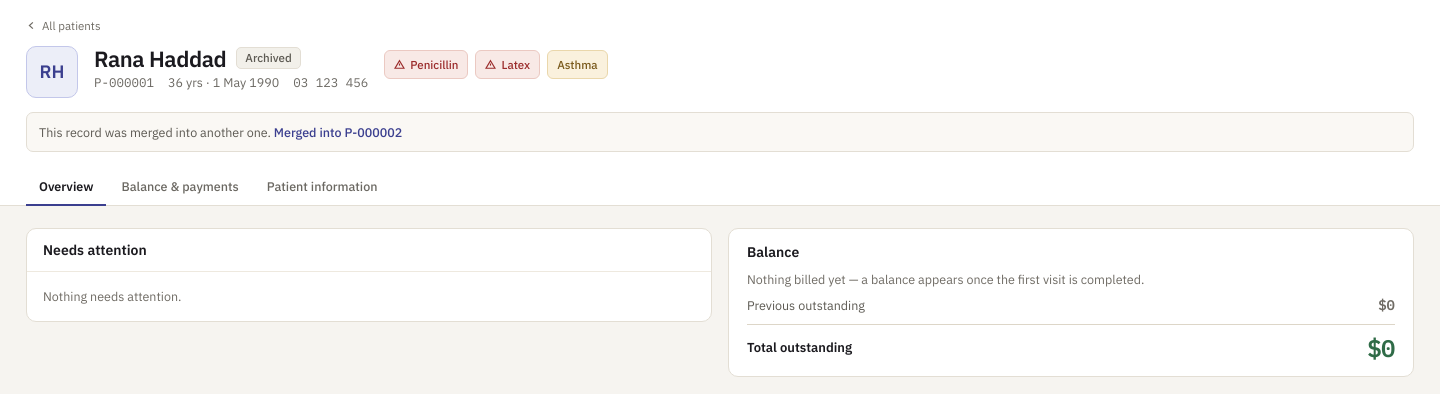
RecordHeader › links a merged record to the kept one, without Restore
The width and height of the screenshot is (1440, 394).
Expected: the button "Edit patient" is not shown
Click the link "Merged into P-000002": click(338, 132) left=274, top=124, right=402, bottom=140
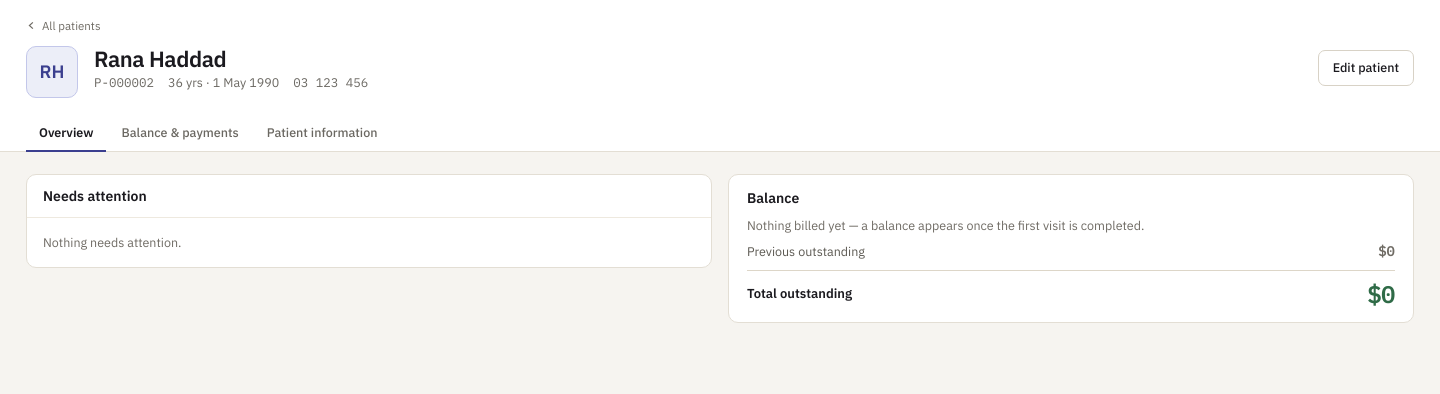
Expected: the text "P-000002" is shown, left=94, top=76, right=154, bottom=88
